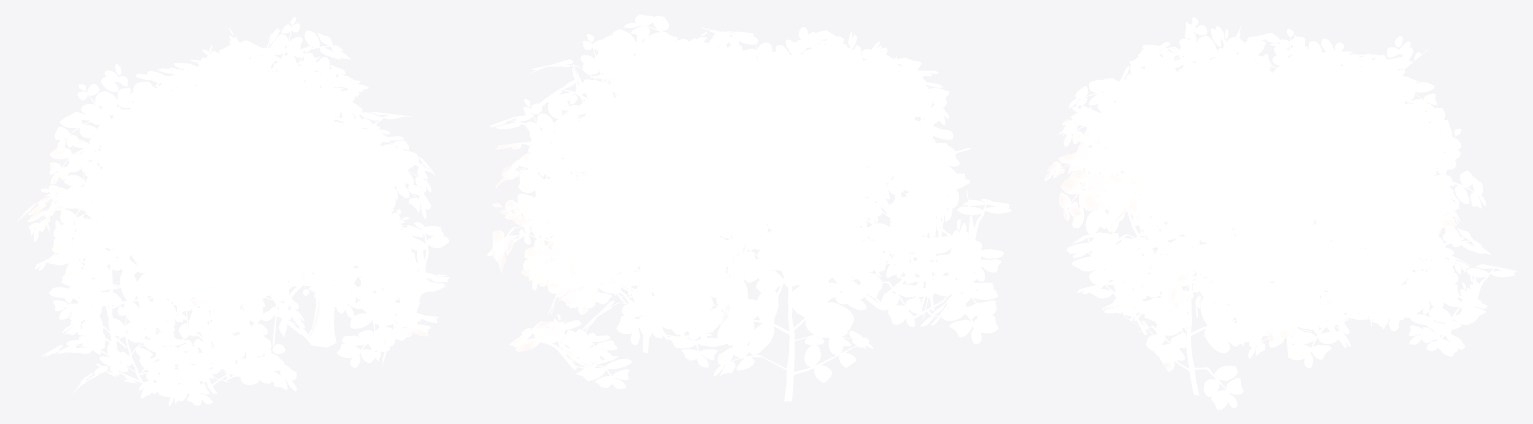
3 renders of one model, left to right at view 1: azimuth 30°, elevation 25°; view 2: azimuth 150°, elevation 25°; view 3: azimuth 270°, elevation 25°, orthographic. The views are drawn at different scales.
Parts seen in each view (by area): view 1: SM_DR_Medium_Bush_Meadows_C_LOD0; view 2: SM_DR_Medium_Bush_Meadows_C_LOD0; view 3: SM_DR_Medium_Bush_Meadows_C_LOD0.
Part boxes in pixels (left/top/right/bottom): SM_DR_Medium_Bush_Meadows_C_LOD0: left=17, top=17, right=449, bottom=406; SM_DR_Medium_Bush_Meadows_C_LOD0: left=487, top=14, right=1011, bottom=401; SM_DR_Medium_Bush_Meadows_C_LOD0: left=1044, top=17, right=1517, bottom=409.
Bounding box in the file's own units: 1.68 × 1.3 × 1.77.
1 material, 1 textured.
